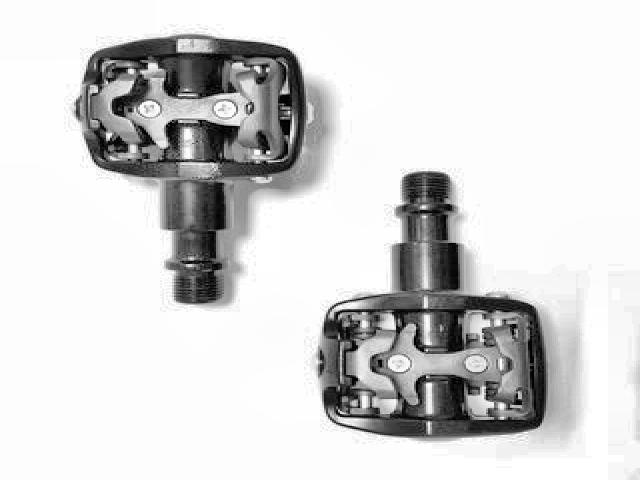pedal: (305, 165, 554, 438), (70, 33, 310, 308)
